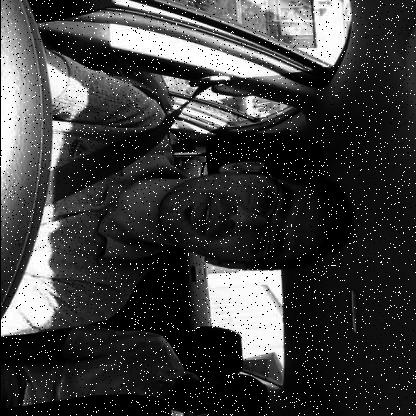seatbelt: (41, 74, 357, 284)
